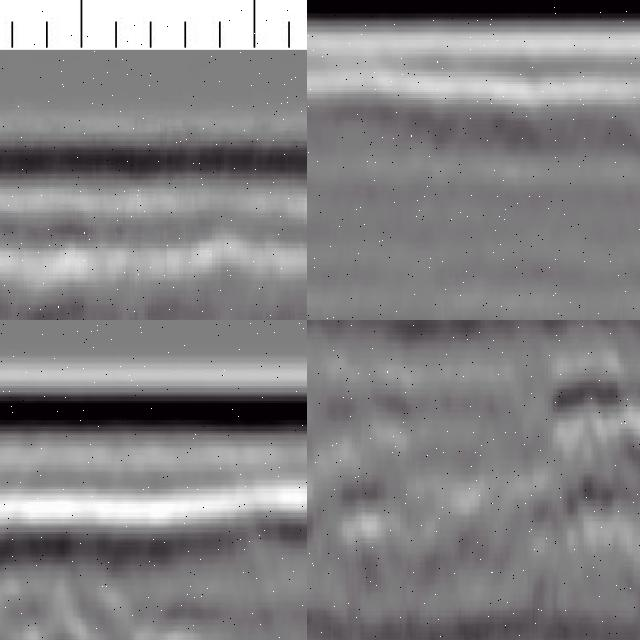loose: (1, 520, 199, 640), (537, 349, 640, 544)
